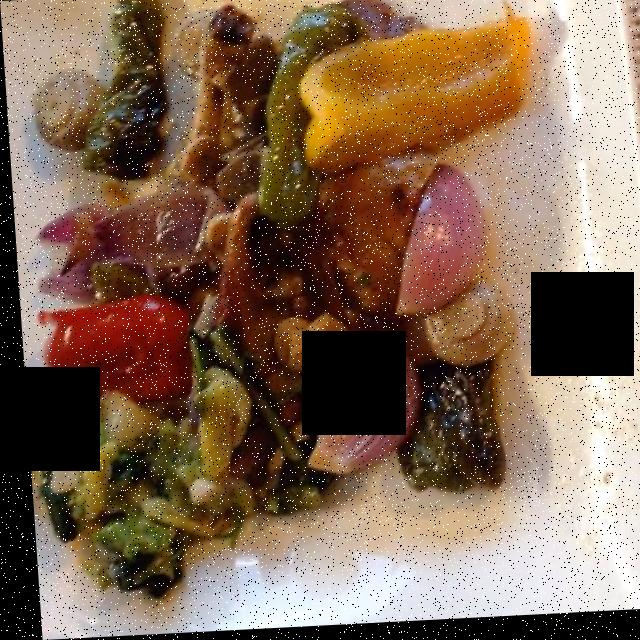mixed-vegetables: (30, 20, 539, 590)
